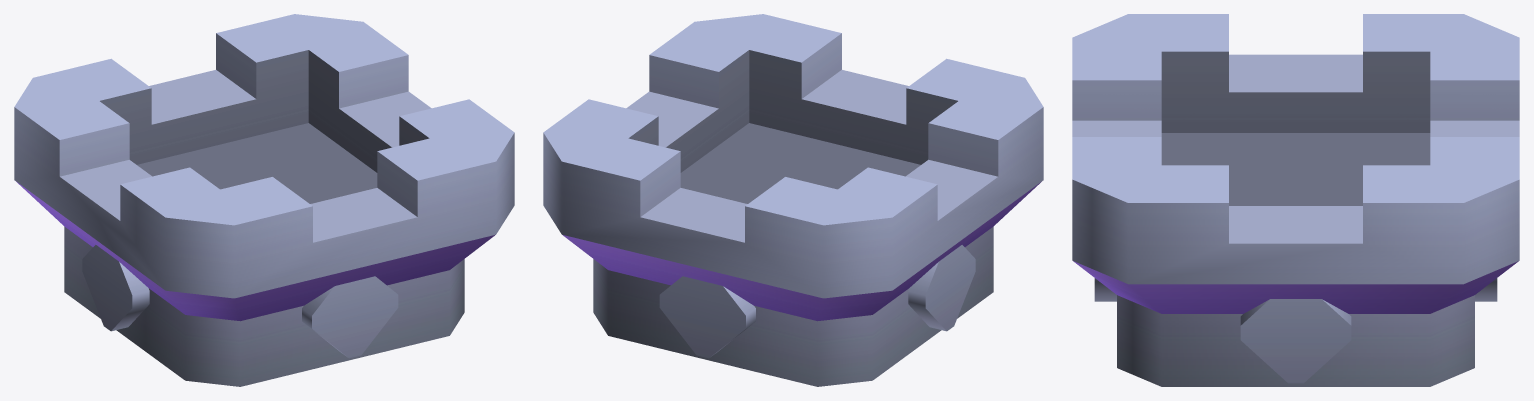
Rendered from kenney-tower-defense-tower-square-top-c.glb.
3 views of the same model, side by side, from view 1: azimuth 30°, elevation 25°; view 2: azimuth 150°, elevation 25°; view 3: azimuth 270°, elevation 25° (orthographic). The views are drawn at different scales.
Visible parts, largest first — view 1: tower-square-top-c; view 2: tower-square-top-c; view 3: tower-square-top-c.
Part boxes in pixels (box(x1,y1,x2,y2)): tower-square-top-c: box(14, 14, 514, 386); tower-square-top-c: box(543, 14, 1043, 386); tower-square-top-c: box(1072, 14, 1519, 386).
Size of the model in its own units: 1 by 0.5001 by 1.
1 material, 1 textured.
